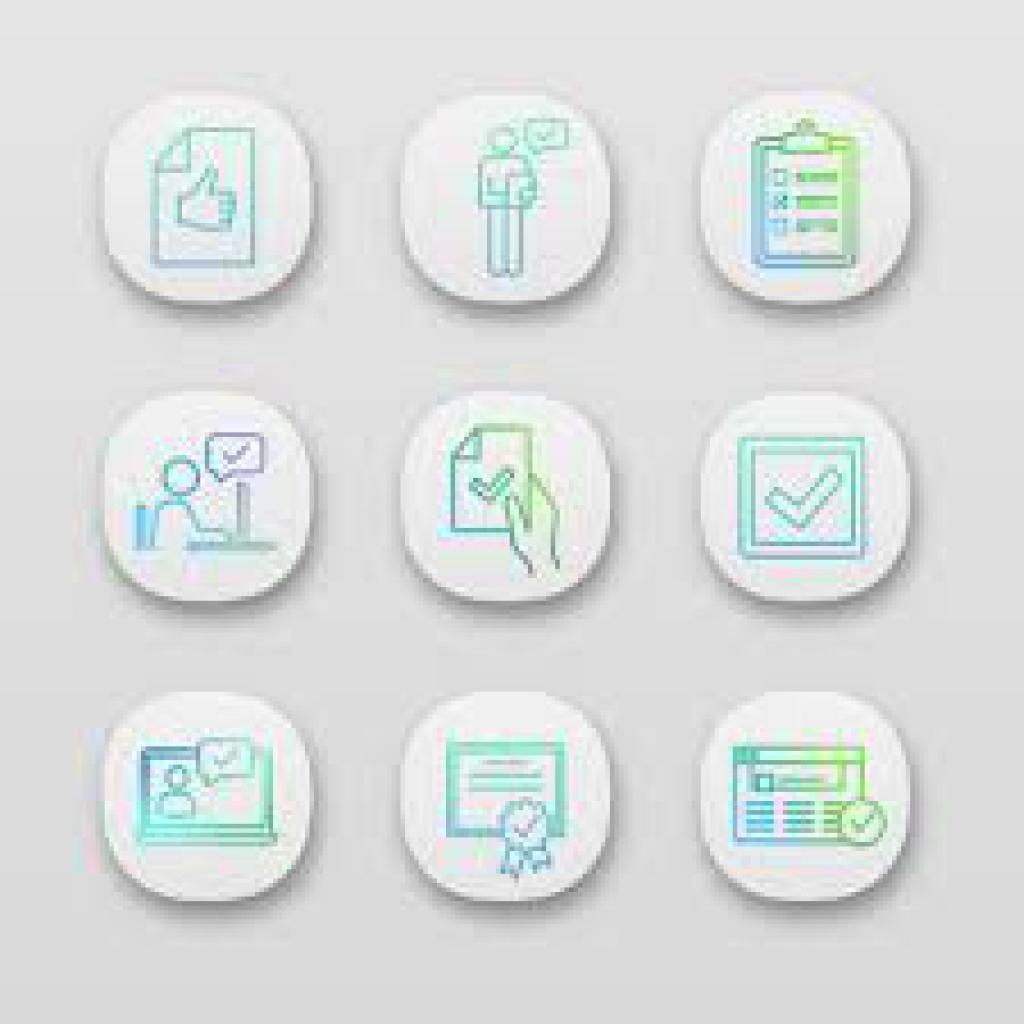checkbox: (737, 436, 872, 561)
icon: (434, 732, 576, 876), (131, 431, 286, 559), (144, 115, 265, 276), (742, 120, 868, 274), (444, 422, 567, 579), (722, 740, 891, 854), (132, 735, 284, 860), (462, 118, 576, 281)
